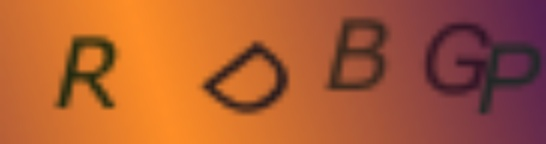B: (324, 12, 391, 94)
D: (199, 39, 297, 119)
G: (422, 19, 494, 97)
P: (478, 38, 542, 118)
R: (51, 29, 124, 117)
